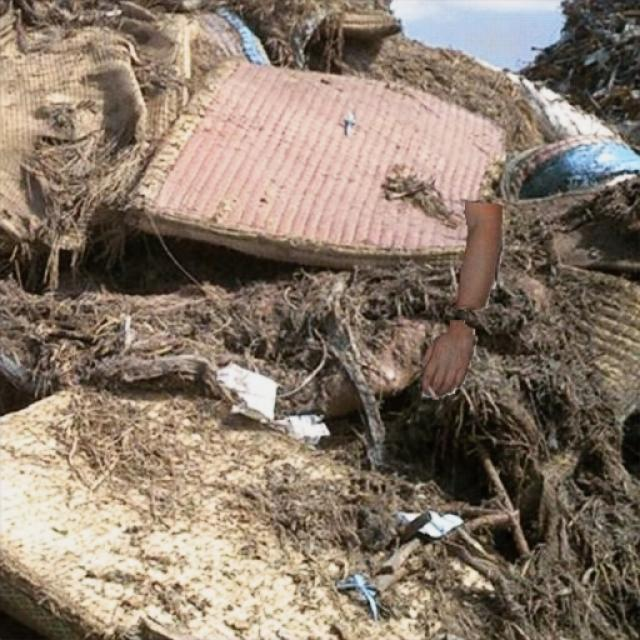Person in Rubble: (422, 201, 502, 399)
